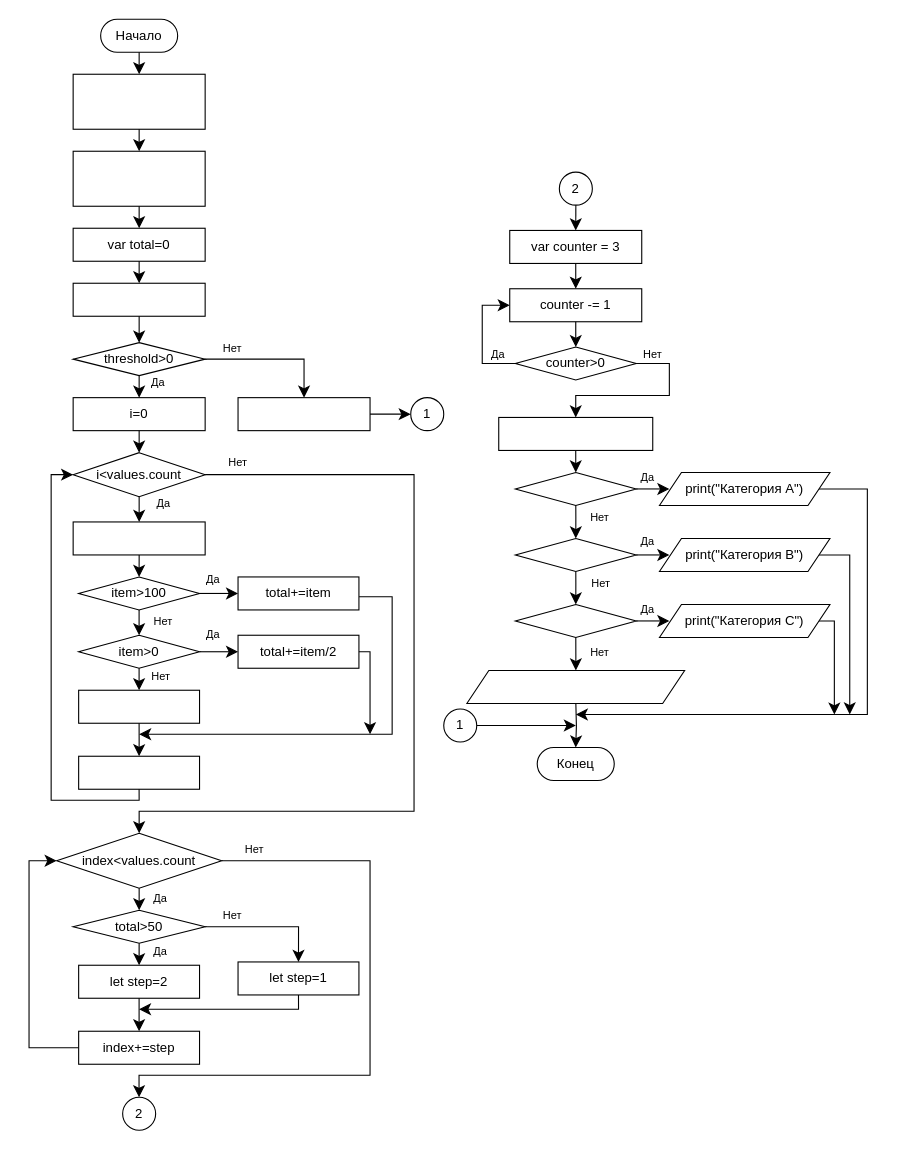
This 899x1150 diagram has some shape labels left out. The box of each missing label's shape, as (x1, y1, x2, y2) in pixels:
code==0: (514, 471, 636, 505)
code==1: (514, 537, 636, 571)
code==2: (514, 603, 636, 637)
i+=1: (78, 755, 200, 789)
let code = threshold % 4: (498, 416, 653, 450)
let item = values[i]: (72, 521, 205, 555)
let threshold = Int.random(in: 1...20): (72, 73, 205, 129)
let values = [5, 101, 84, -3, 0, 47, -52]: (72, 150, 205, 206)
print("Прочие категории"): (466, 669, 685, 703)
return: (237, 397, 370, 431)
total-=1: (78, 689, 200, 723)
var index=0: (72, 282, 205, 316)
